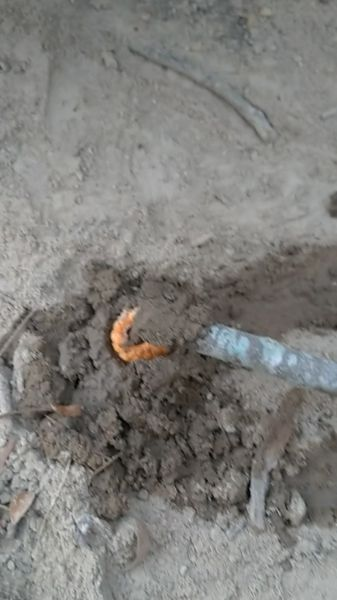eggs: (108, 305, 181, 370)
